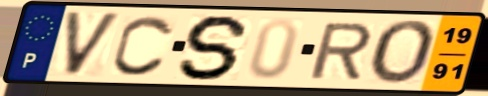0: (246, 16, 303, 82)
C: (109, 13, 177, 78)
O: (367, 18, 440, 87)
R: (306, 21, 375, 81)
S: (175, 13, 254, 82)
V: (62, 10, 125, 79)
